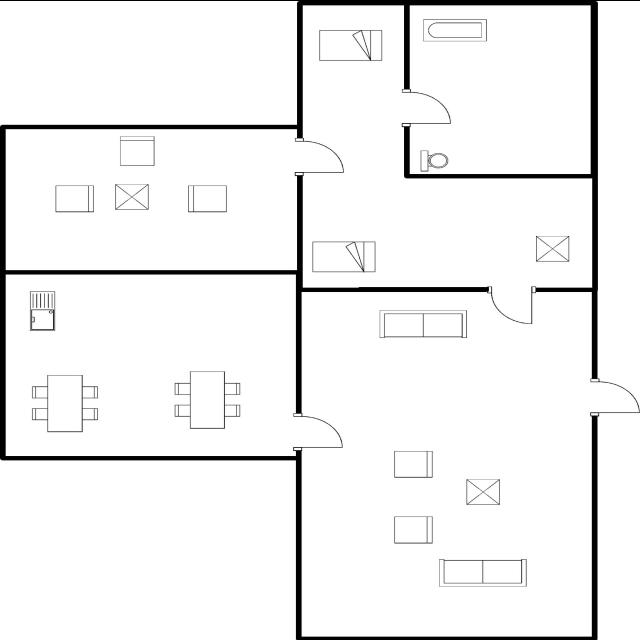bed: (308, 237, 381, 274), (314, 26, 384, 64)
coffee_table: (111, 178, 154, 214), (462, 475, 504, 509), (532, 232, 573, 264), (415, 148, 453, 172)
dining_table: (24, 368, 102, 436), (170, 368, 246, 432)
large_sofa: (372, 306, 472, 341), (434, 556, 530, 589)
sink: (24, 286, 60, 334)
small_sofa: (50, 180, 98, 216), (184, 180, 231, 216), (116, 132, 160, 170), (389, 512, 436, 546), (390, 446, 436, 479)
tub: (417, 16, 491, 44)
